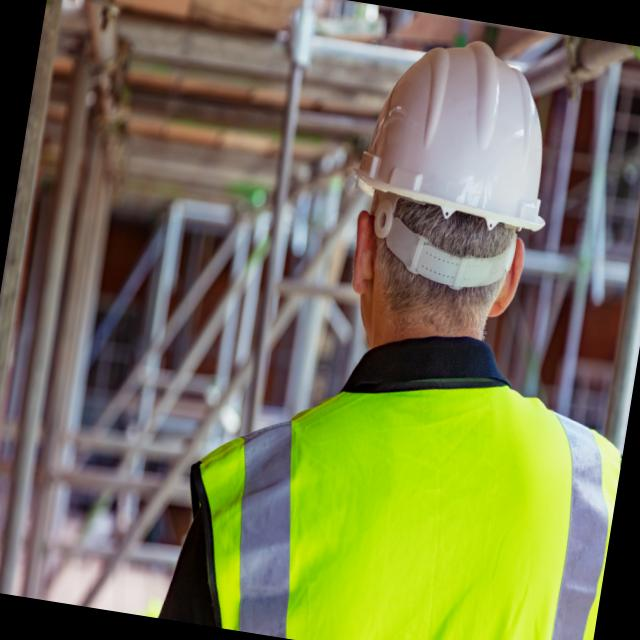helmet: (333, 19, 578, 310)
vest: (163, 327, 632, 640)
